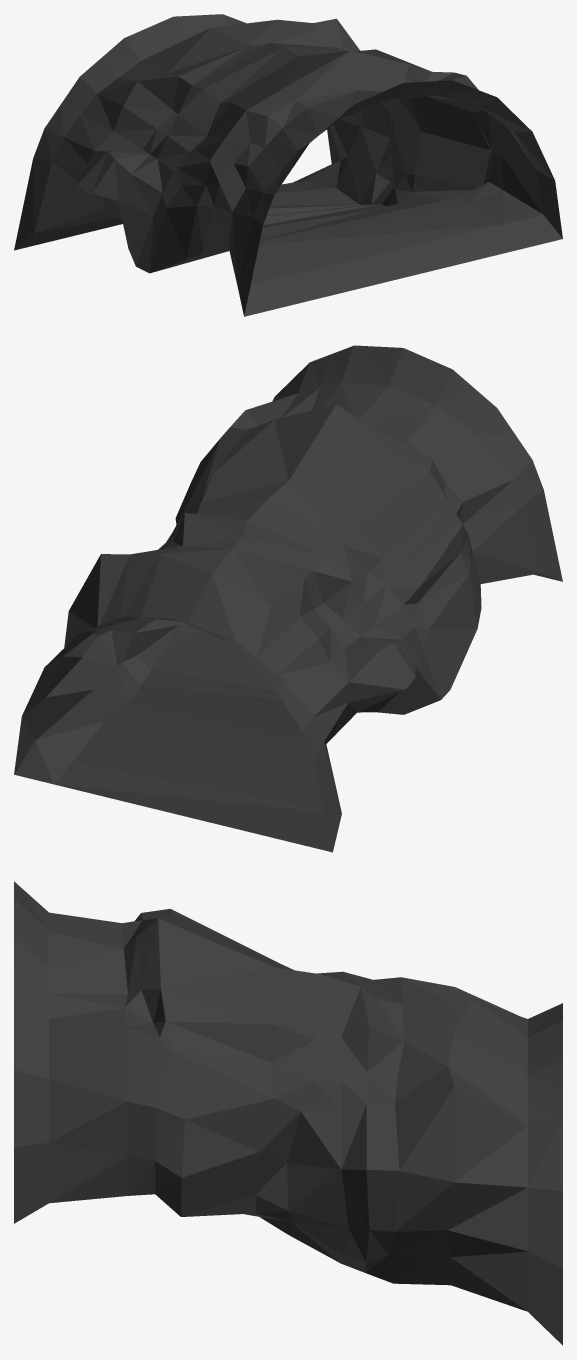
File: Cave_6A_LOD_2.fbx
3 renders of one model, top to bottom at view 1: azimuth 30°, elevation 25°; view 2: azimuth 150°, elevation 25°; view 3: azimuth 270°, elevation 25°, orthographic. The views are drawn at different scales.
Visible parts, largest first — view 1: pCylinder11; view 2: pCylinder11; view 3: pCylinder11.
Part boxes in pixels (<box>): pCylinder11: <box>14,14,562,316</box>; pCylinder11: <box>14,345,562,852</box>; pCylinder11: <box>14,881,562,1345</box>.
Size of the model in its own units: 8.39 by 7.35 by 10.32.
